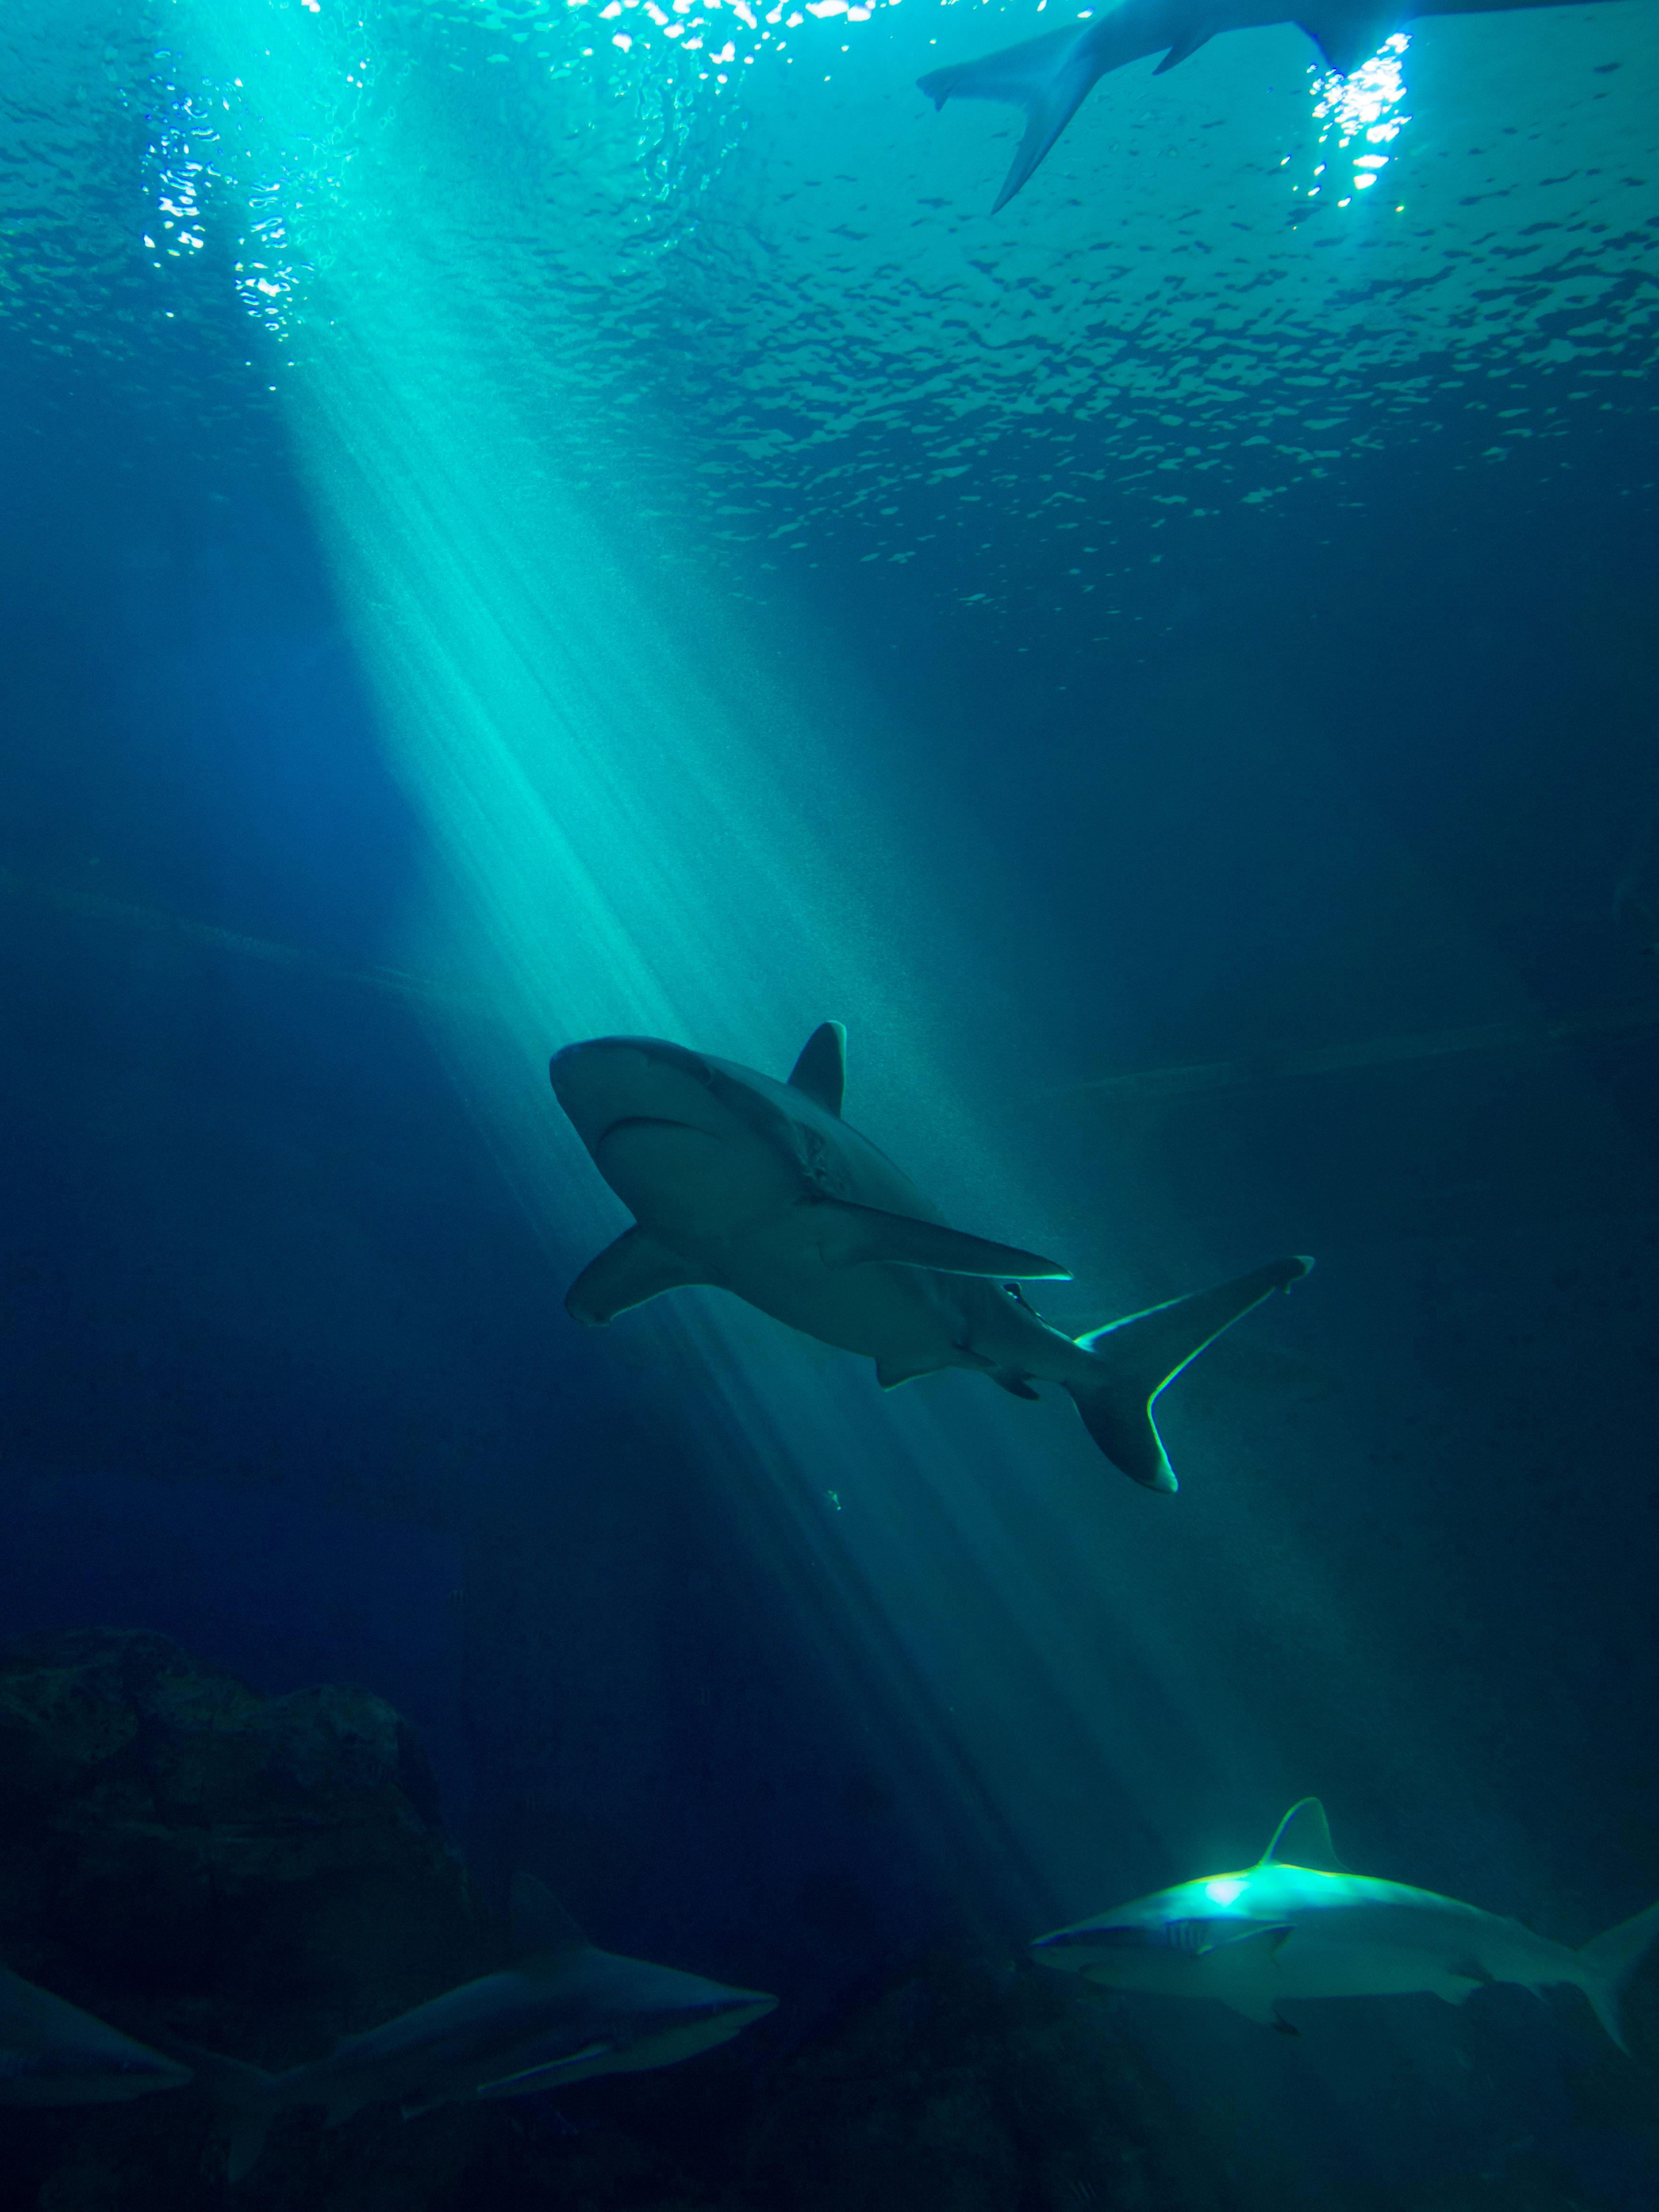shark: (542, 1008, 1331, 1503), (181, 1874, 782, 2193), (1032, 1791, 1638, 2069), (0, 1973, 192, 2123)
